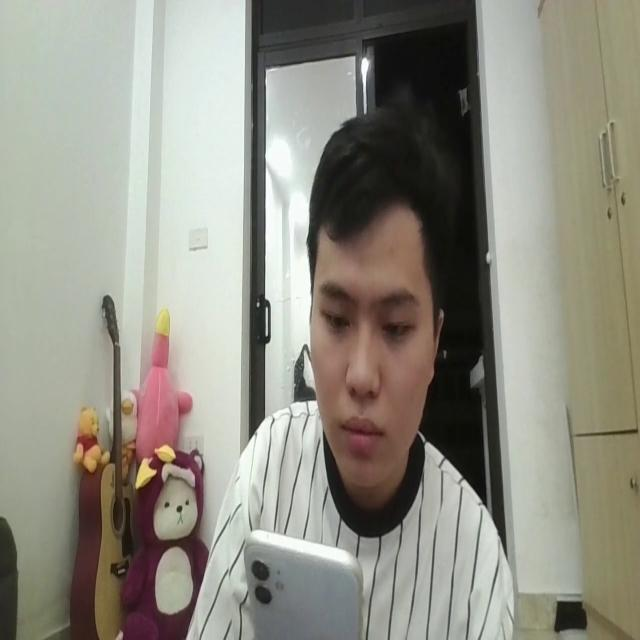phone: (243, 517, 367, 640)
student: (174, 106, 513, 640)
